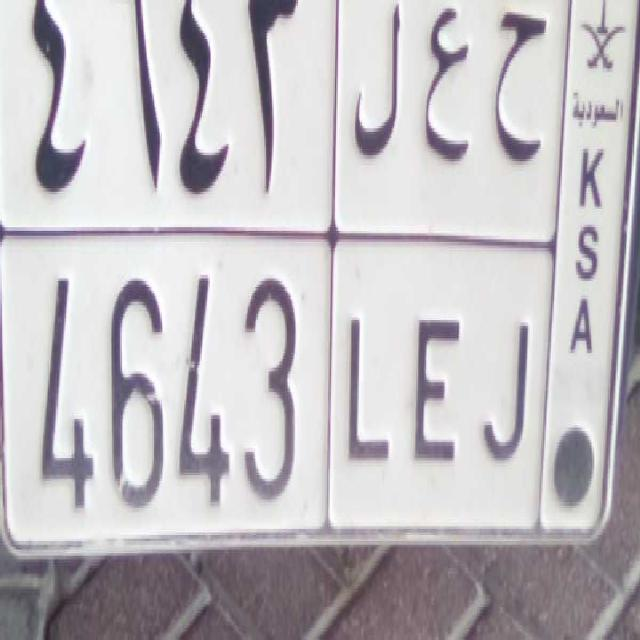license_plate: (0, 225, 549, 543)
